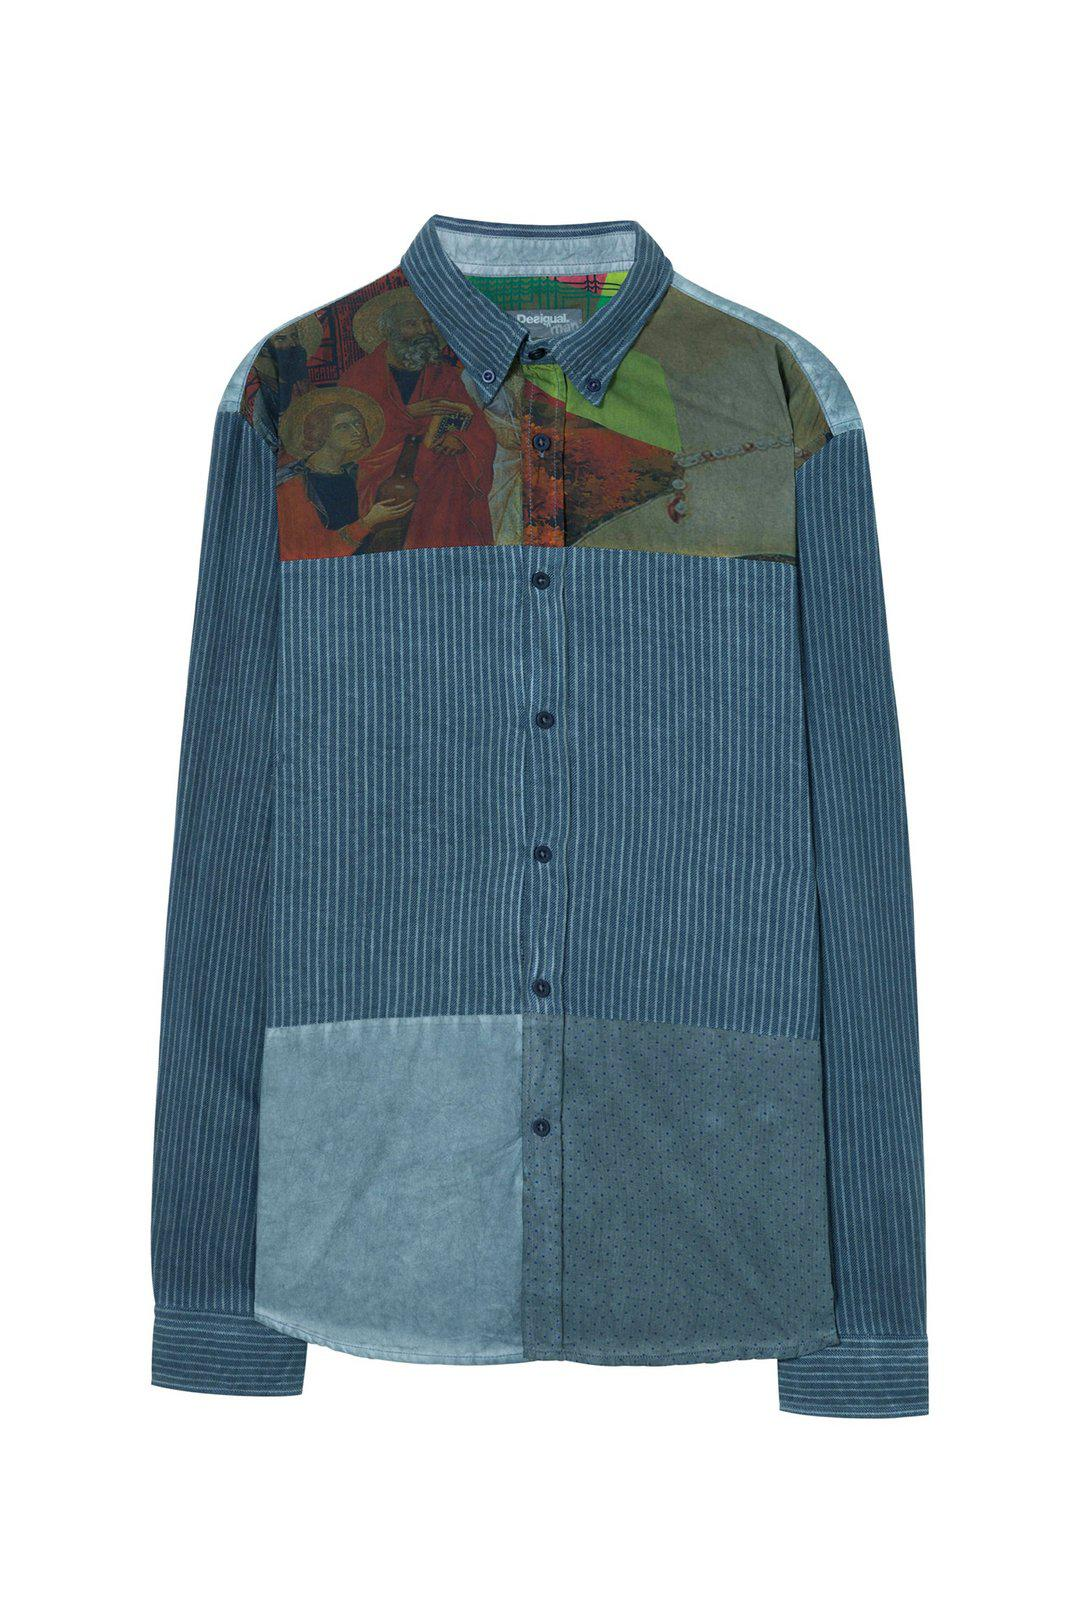teeshirt: (127, 196, 946, 1442)
